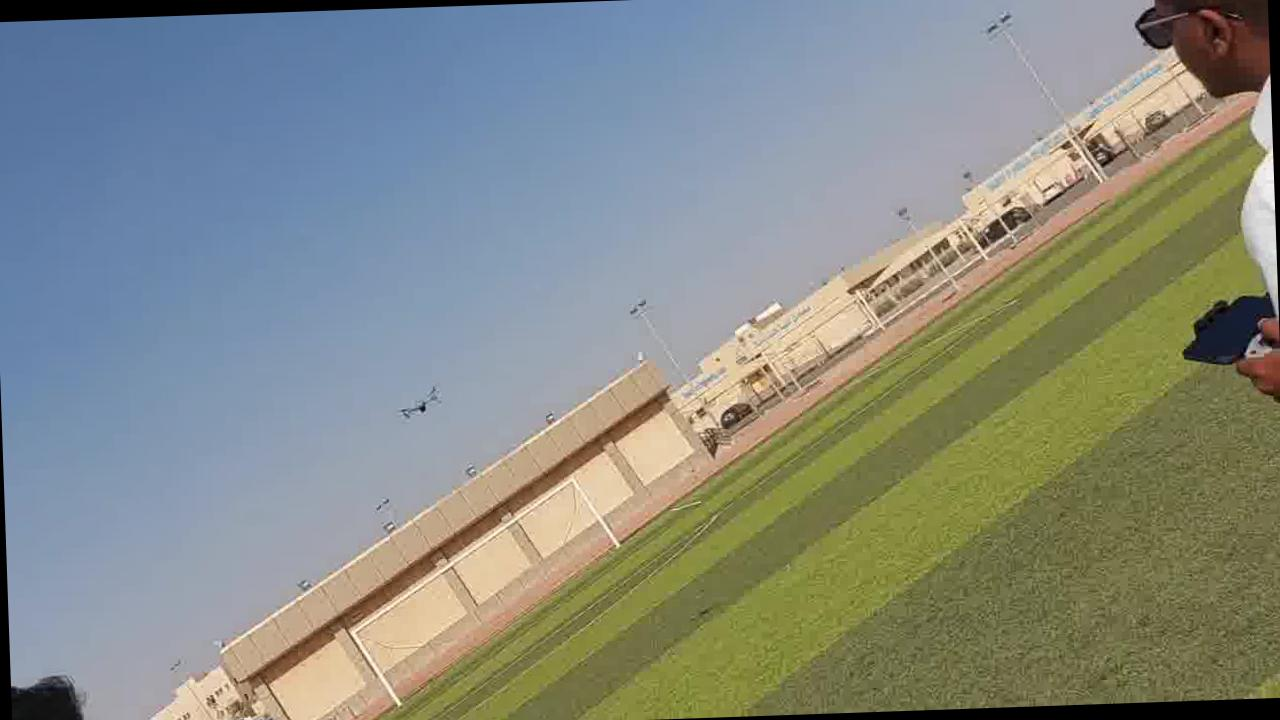drone: (384, 375, 452, 430)
